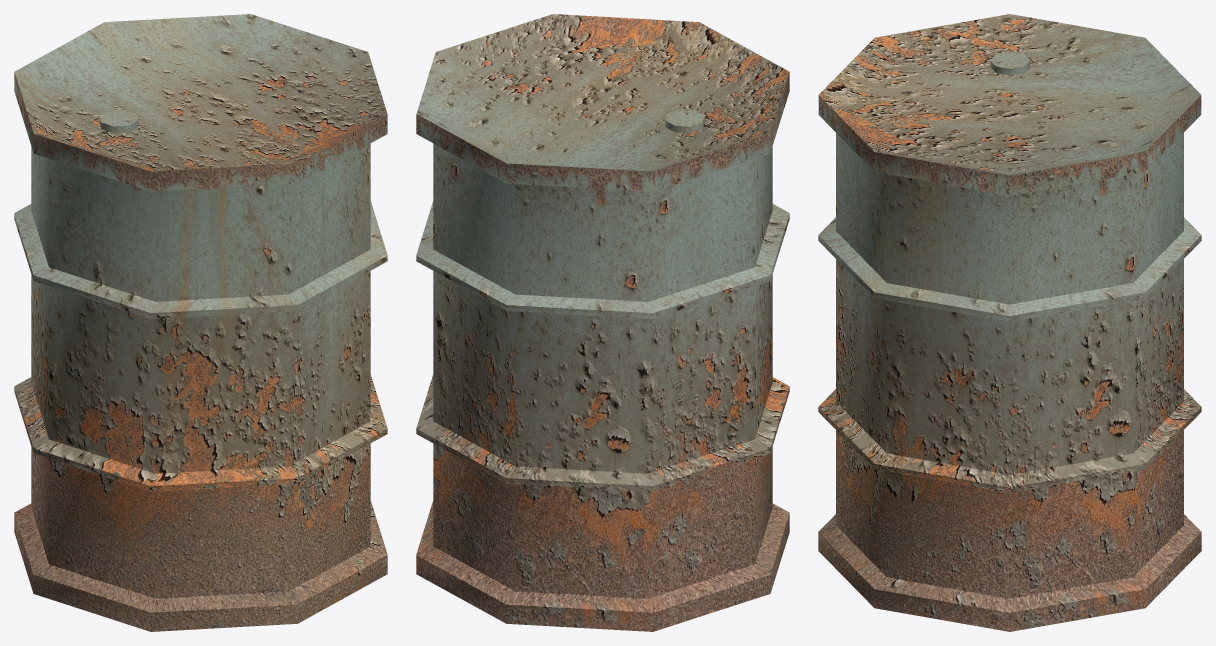
The model's file is barrel.fbx.
The picture shows the model from 3 angles, left to right: view 1: azimuth 30°, elevation 25°; view 2: azimuth 150°, elevation 25°; view 3: azimuth 270°, elevation 25°; orthographic projection.
Parts seen in each view (by area): view 1: Mesh Object; view 2: Mesh Object; view 3: Mesh Object.
Part boxes in pixels (box(x1,y1,x2,y2)): Mesh Object: box(14, 14, 387, 631); Mesh Object: box(416, 14, 789, 631); Mesh Object: box(818, 14, 1201, 631).
Bounding box in the file's own units: 1.38 × 1.81 × 1.38.
